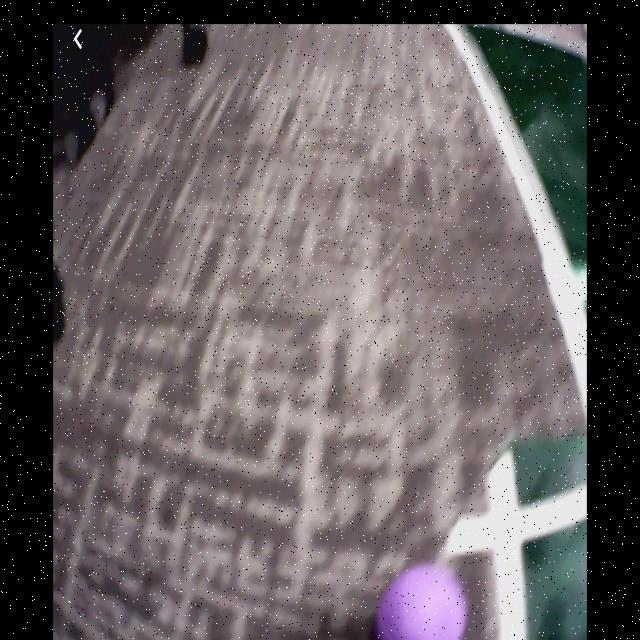ball: (375, 562, 470, 639)
